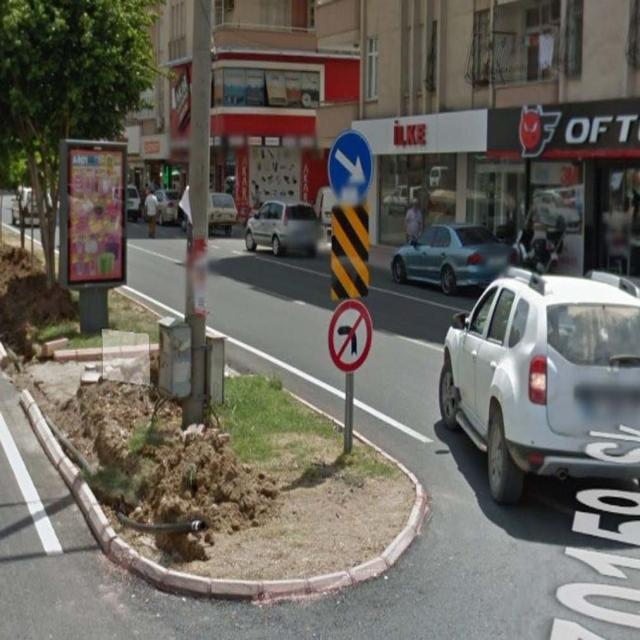soladonulmez: (330, 298, 373, 372)
